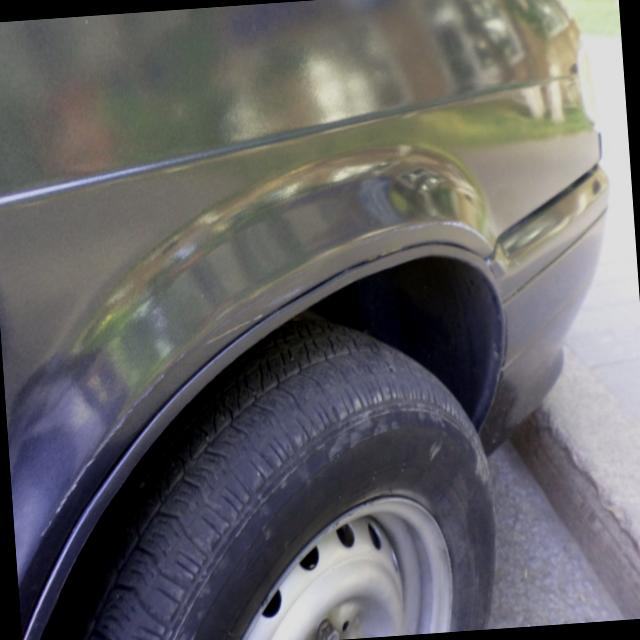Rayure: (13, 327, 219, 541), (346, 205, 506, 260), (207, 276, 312, 349)
